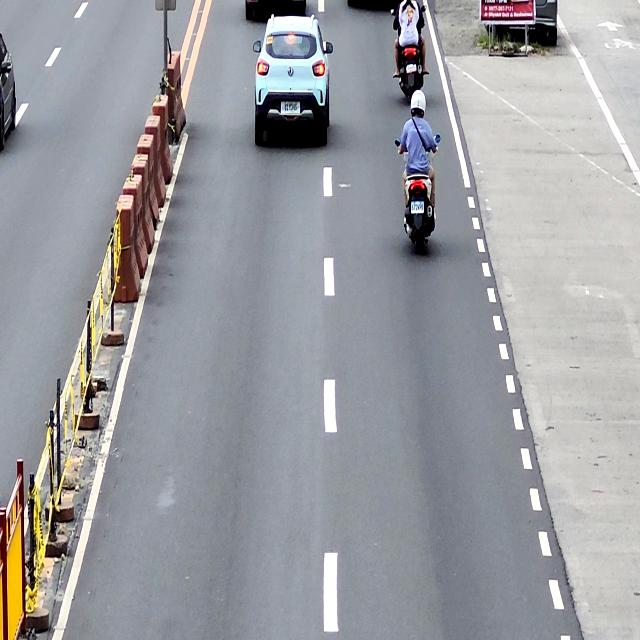Car: (253, 13, 333, 147)
License-Plate: (280, 100, 300, 116), (410, 200, 424, 213), (406, 64, 417, 74)
Motorcycle: (397, 133, 441, 255), (391, 6, 428, 103)
